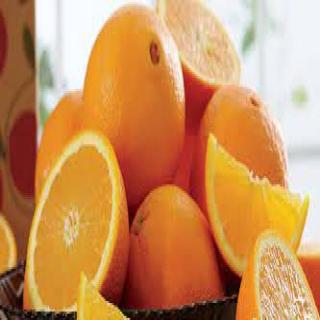orange: (74, 3, 186, 201), (20, 124, 130, 312), (204, 120, 316, 292), (120, 165, 230, 320)
